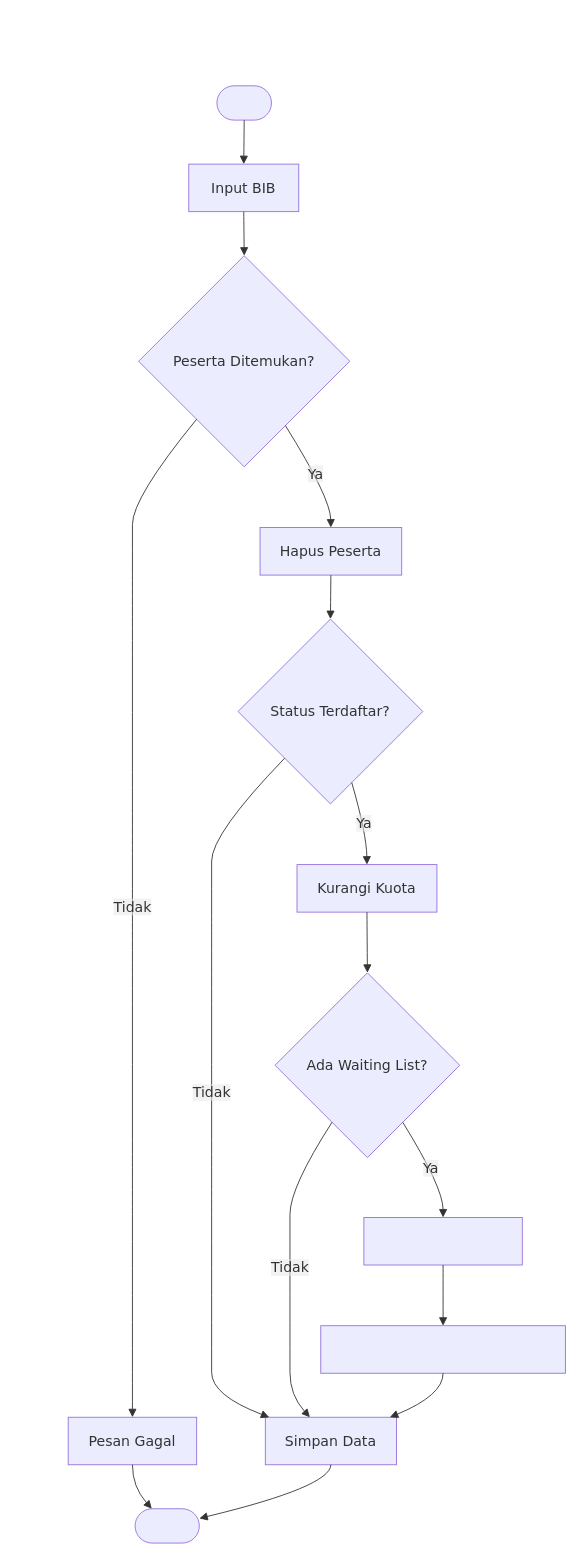
This 581x1558 diagram has some shape labels left out. Each missing label, with the box of its shape:
Dequeue Peserta: (363, 1217, 522, 1265)
Mulai: (216, 85, 271, 120)
Selesai: (134, 1508, 199, 1543)
Ubah Status Menjadi Terdaftar: (320, 1325, 565, 1373)
